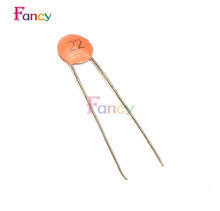ceramic capacitor: (36, 24, 136, 99)
